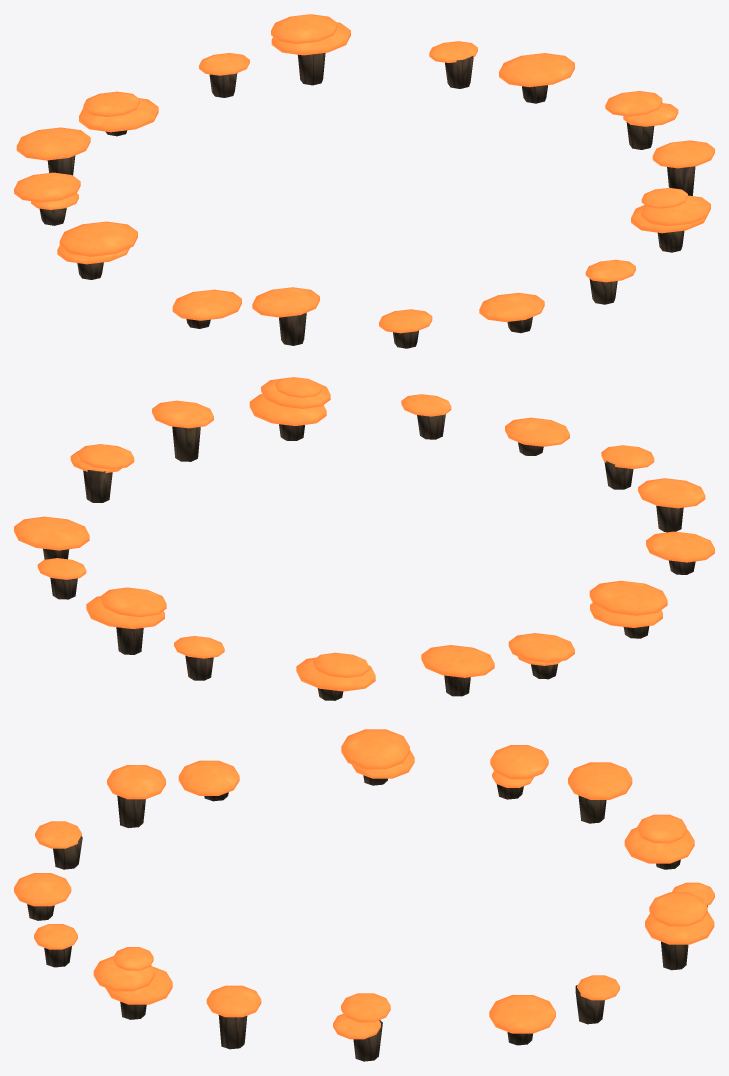
The model's file is lingzhi_ring.glb.
3 views of the same model, one above another, from view 1: azimuth 30°, elevation 25°; view 2: azimuth 150°, elevation 25°; view 3: azimuth 270°, elevation 25° (orthographic). The views are drawn at different scales.
Visible parts, largest first — view 1: Caps, Stumps; view 2: Caps, Stumps; view 3: Caps, Stumps.
Boxes of the visible parts, left/top/right/bottom form: Caps: left=14, top=14, right=714, bottom=333; Stumps: left=39, top=53, right=695, bottom=348; Caps: left=14, top=377, right=714, bottom=691; Stumps: left=43, top=414, right=695, bottom=700; Caps: left=14, top=729, right=714, bottom=1039; Stumps: left=27, top=775, right=707, bottom=1061.
Bounding box in the file's own units: 7.05 × 0.6558 × 6.87.
Materials: 2 (2 with a texture image).
